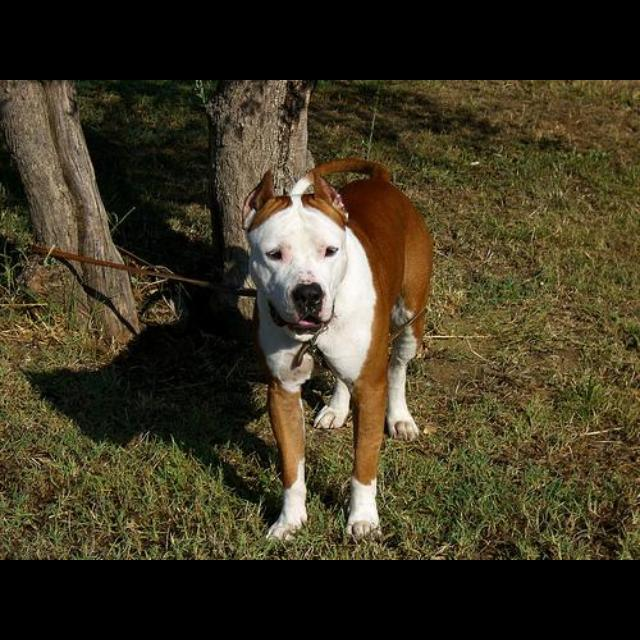amstaff: (242, 158, 434, 544)
